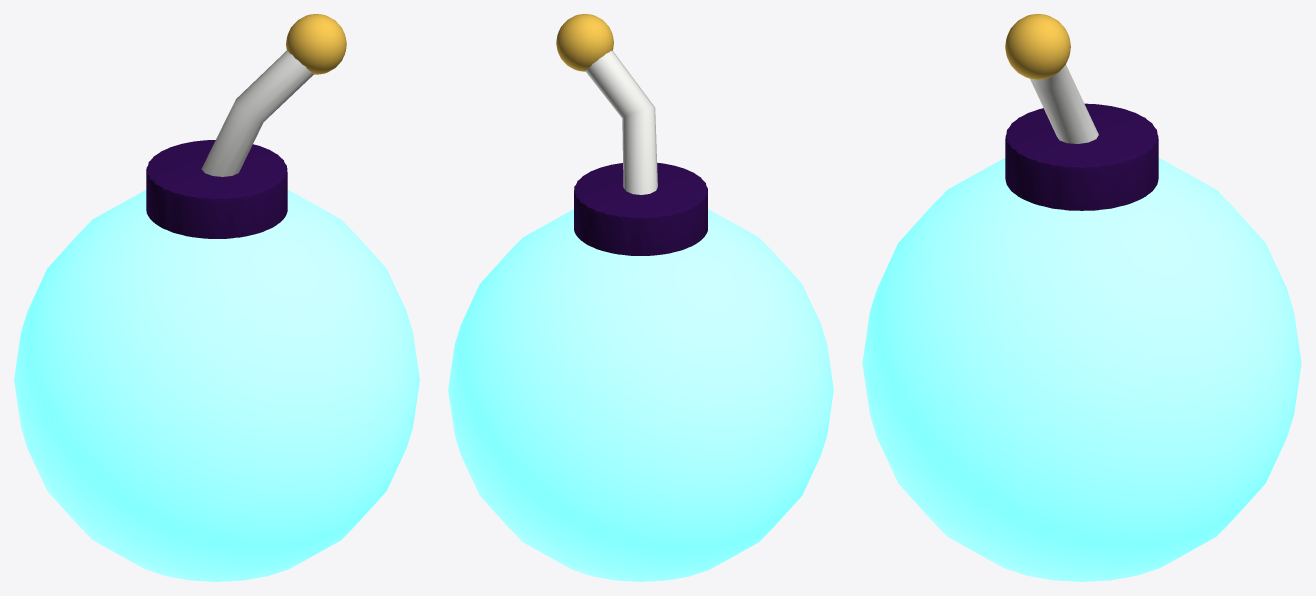
Rendered from bomb.glb.
3 views of the same model, side by side, from view 1: azimuth 30°, elevation 25°; view 2: azimuth 150°, elevation 25°; view 3: azimuth 270°, elevation 25° (orthographic). The views are drawn at different scales.
Visible parts, largest first — view 1: bomb; view 2: bomb; view 3: bomb.
Part boxes in pixels (x1,y1,x2,y2): bomb: (14, 14, 419, 581); bomb: (448, 14, 833, 581); bomb: (862, 14, 1301, 581).
Size of the model in its own units: 0.4 by 0.59 by 0.4.
